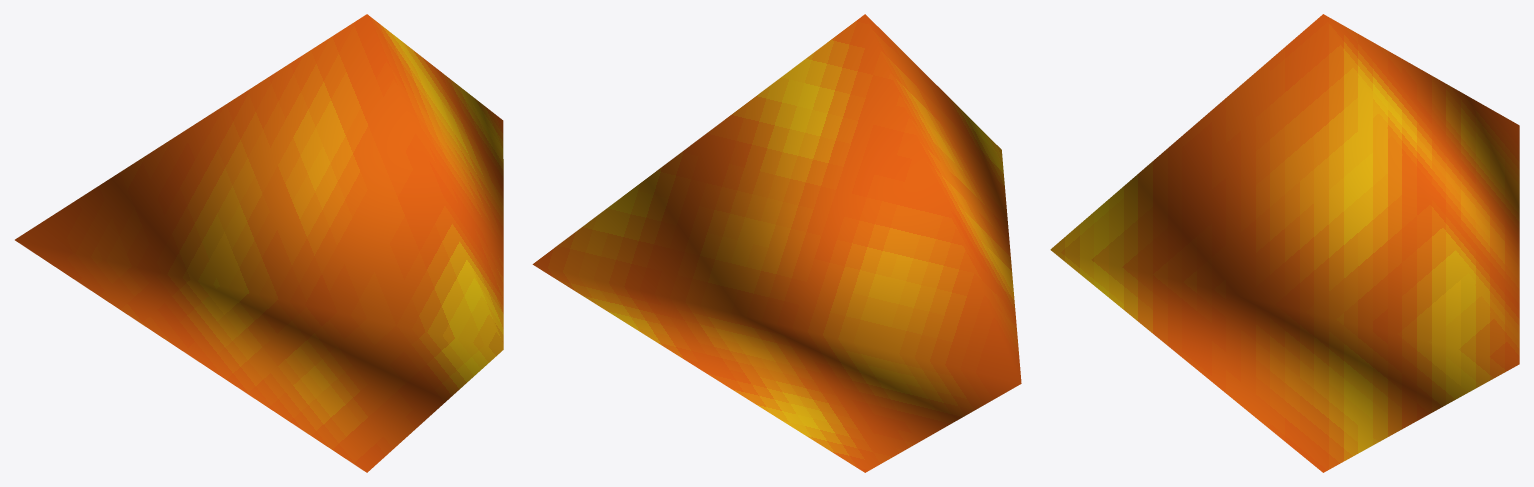
3 views of the same model, side by side, from view 1: azimuth 30°, elevation 25°; view 2: azimuth 150°, elevation 25°; view 3: azimuth 270°, elevation 25° (orthographic).
Visible parts, largest first — view 1: 445bcc98; view 2: 445bcc98; view 3: 445bcc98.
Part boxes in pixels (x1,y1,x2,y2): 445bcc98: [15, 14, 503, 472]; 445bcc98: [532, 14, 1021, 472]; 445bcc98: [1050, 14, 1519, 472].
Size of the model in its own units: 2.35 by 2.11 by 1.95.
Materials: 1 (1 with a texture image).
